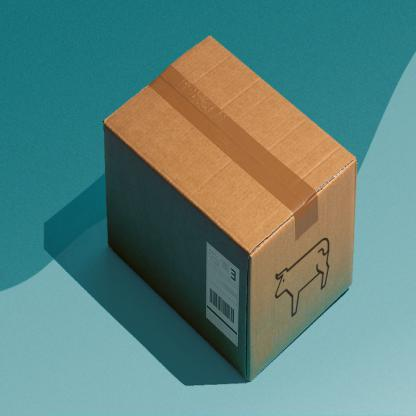box: (102, 33, 358, 385)
